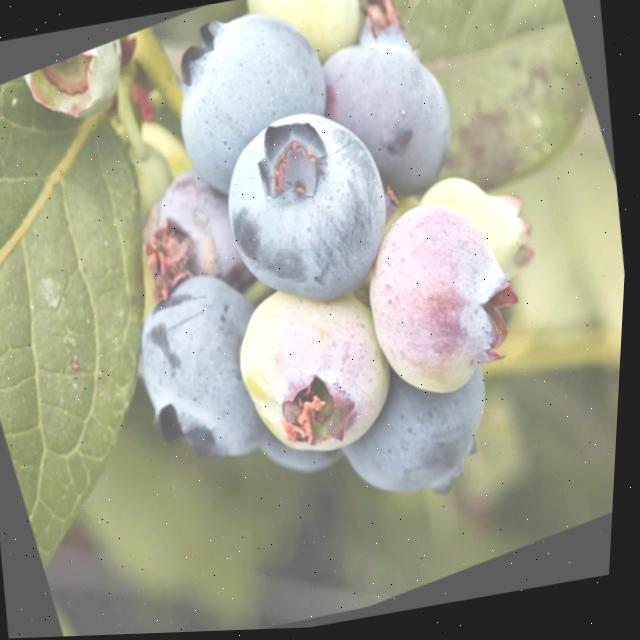RipeBlueBerry: (200, 90, 421, 331), (148, 0, 354, 197)
Semi-RipeBlueBerry: (341, 181, 544, 418), (220, 269, 424, 494)
